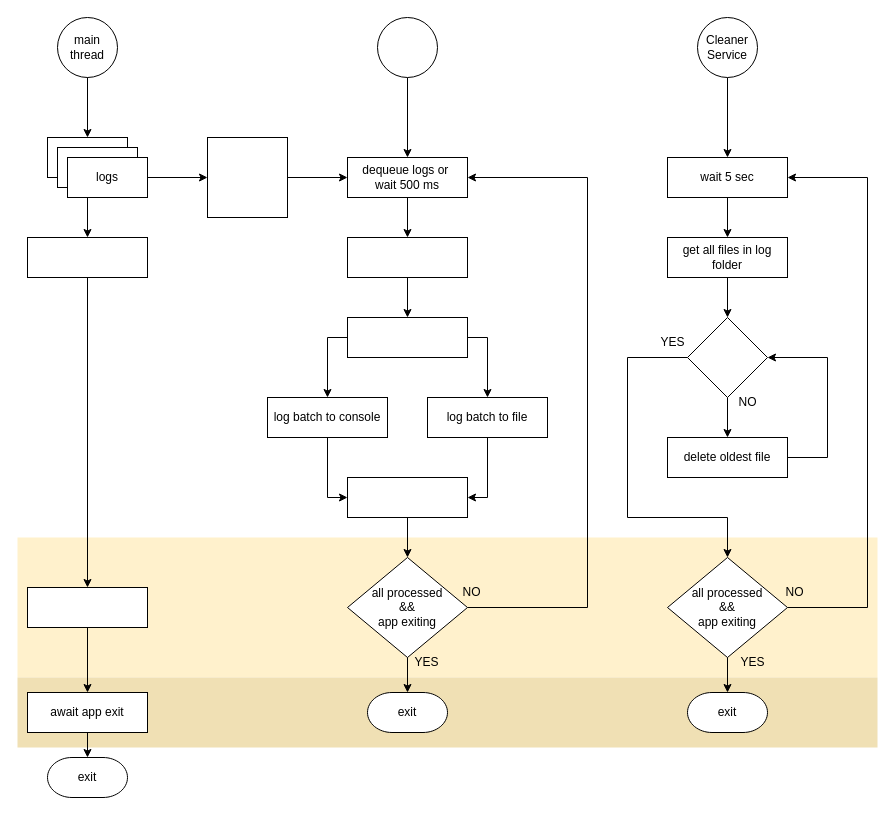
The diagram is 894 pixels wide and 815 high, and some of its shapes have lost their labels. The shapes that lost their labels are listed below. From the top down, each one's centre as x and y in pixels, then its label:
At point 407,47: "Logger Service".
At point 247,177: "thread-safe logs queue".
At point 87,257: "other activities".
At point 407,257: "deque all logs into a batch".
At point 407,337: "create processing sub-tasks".
At point 727,357: "size < limit".
At point 407,497: "await both sub-tasks exit".
At point 87,607: "signal app exit".
